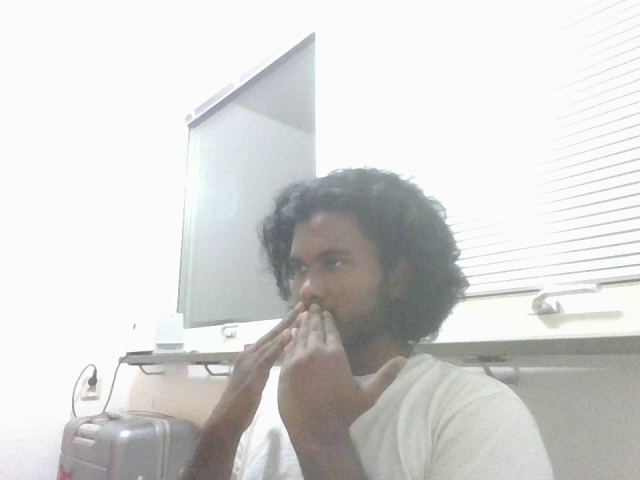Thanks: (206, 297, 413, 427)
